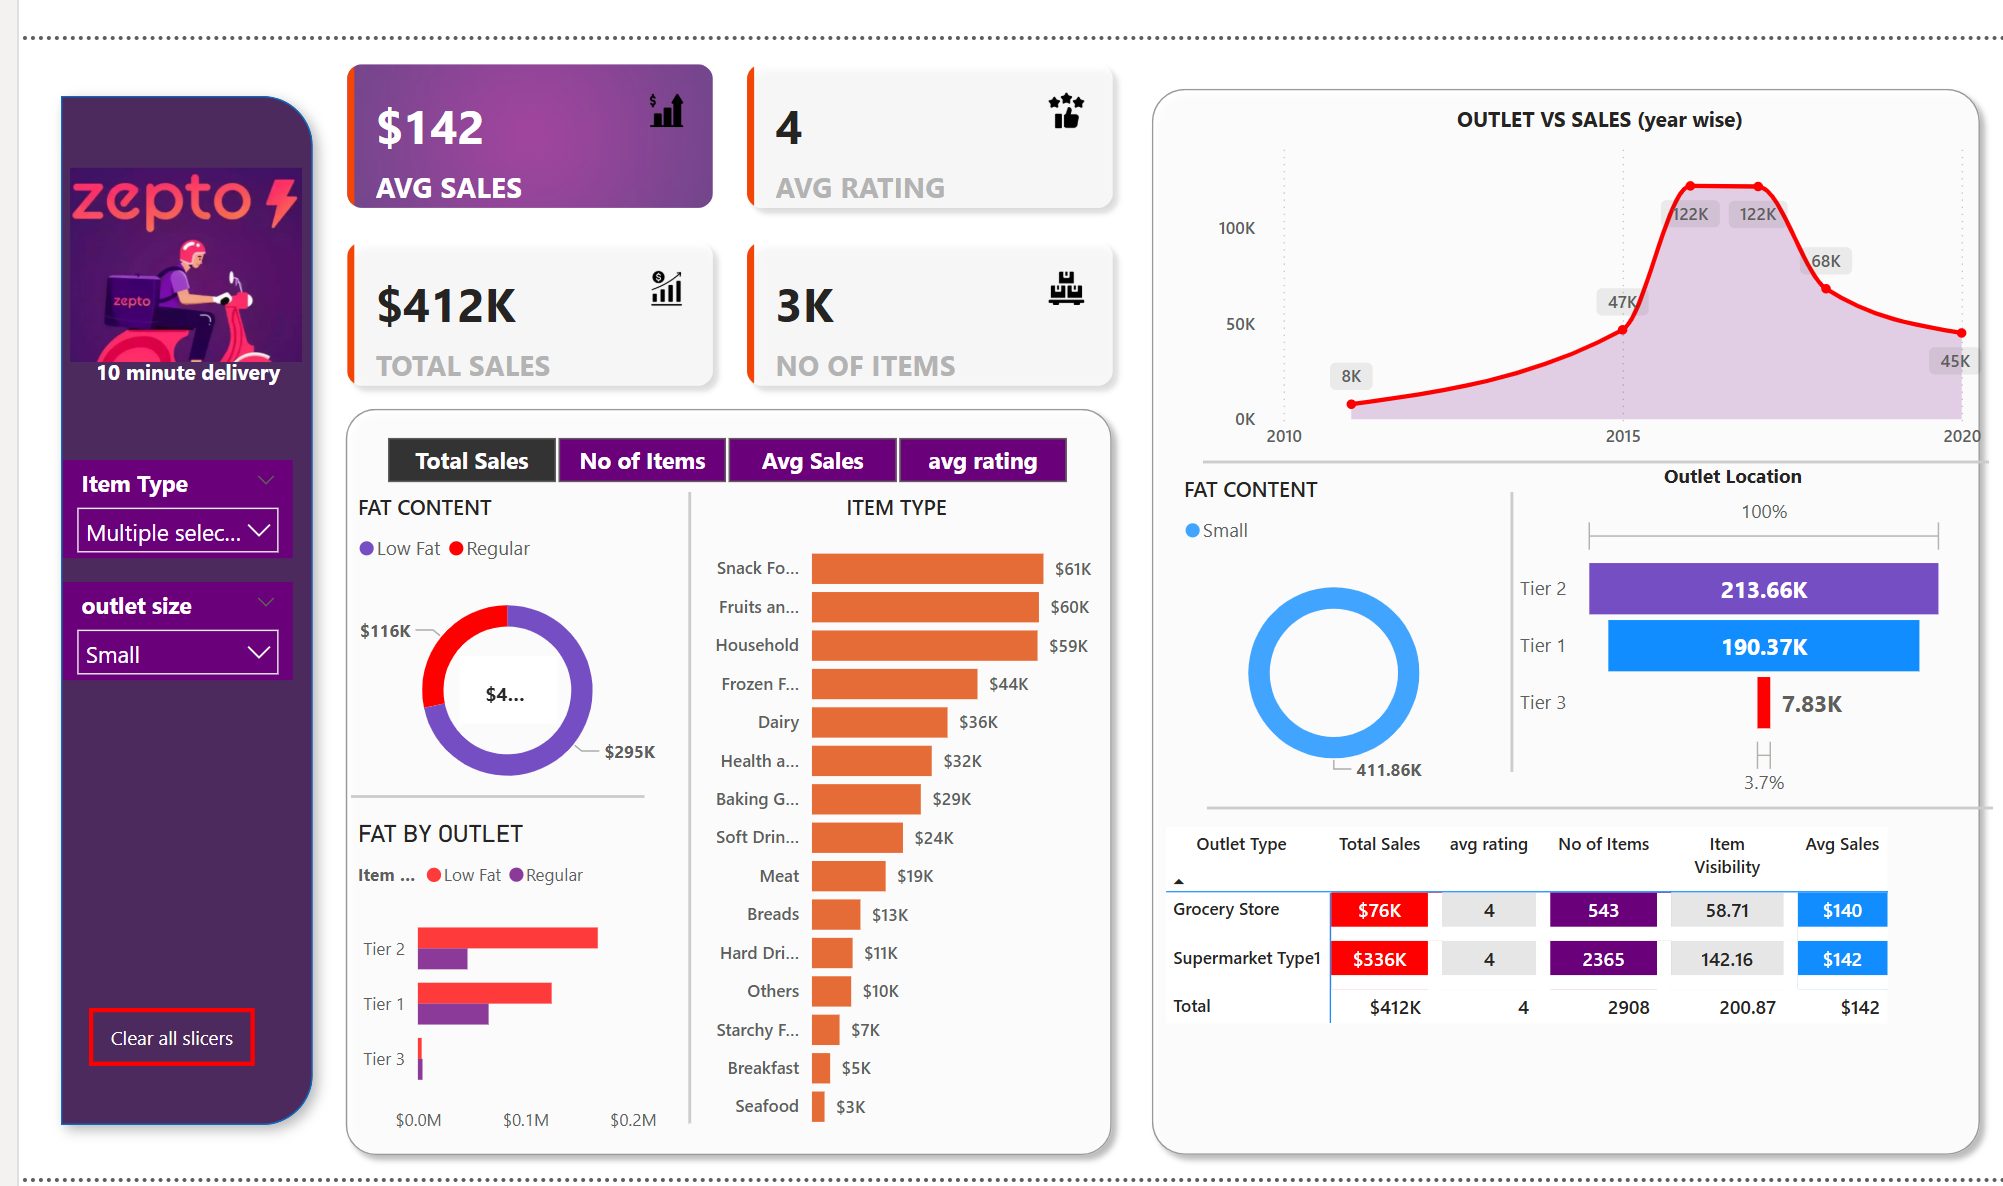

This screenshot's page, from the dashboard's own definition file:
{"tool":"powerbi","page":{"name":"Page 1","canvas":[1400,800],"ordinal":0},"visuals":[{"type":"shape","box":[15,25,205,751.2],"z":0},{"type":"cardVisual","fields":{"Data":["BlinkIT Grocery Data.Avg Sales","BlinkIT Grocery Data.avg rating","BlinkIT Grocery Data.Total Sales","BlinkIT Grocery Data.No of Items"]},"box":[213.8,0,572.5,260],"z":1000},{"type":"shape","box":[220,250,556.2,542.5],"z":2000},{"type":"donutChart","title":"FAT CONTENT","fields":{"Y":["BlinkIT Grocery Data.Total Sales"],"Category":["BlinkIT Grocery Data.Item Fat Content"]},"box":[233.8,317.5,220,230],"z":3000},{"type":"slicer","fields":{"Values":["Metric.Metric"]},"box":[233.3,272.7,527.1,45],"z":4000},{"type":"cardVisual","fields":{"Data":["BlinkIT Grocery Data.Total Sales"]},"box":[308.8,432.5,68.8,47.5],"z":5000},{"type":"clusteredBarChart","title":"FAT BY OUTLET","fields":{"Y":["BlinkIT Grocery Data.Total Sales"],"Category":["BlinkIT Grocery Data.Outlet Location Type"],"Series":["BlinkIT Grocery Data.Item Fat Content"]},"box":[233.8,547.5,220,228.8],"z":6000},{"type":"shape","box":[233.8,432.5,206.2,197.5],"z":7000},{"type":"shape","box":[368.8,317.5,206.2,443.8],"z":8000},{"type":"barChart","title":"ITEM TYPE","fields":{"Y":["BlinkIT Grocery Data.Total Sales"],"Category":["BlinkIT Grocery Data.Item Type"]},"box":[472.5,317.5,288.8,458.8],"z":9000},{"type":"shape","box":[787.1,25.3,600.2,767.5],"z":10000},{"type":"lineChart","title":"OUTLET VS SALES (year wise)","fields":{"Y":["Sum(BlinkIT Grocery Data.Sales)"],"Category":["BlinkIT Grocery Data.Outlet Establishment Year"]},"box":[837.8,45,546.8,251.6],"z":11000},{"type":"shape","box":[832.1,239,552.4,115.3],"z":12000},{"type":"donutChart","title":"FAT CONTENT","fields":{"Y":["Sum(BlinkIT Grocery Data.Sales)"],"Series":["BlinkIT Grocery Data.Outlet Size"]},"box":[813.9,305,220.7,230.5],"z":13000},{"type":"funnel","title":" Outlet Location","fields":{"Category":["BlinkIT Grocery Data.Outlet Location Type"],"Y":["Sum(BlinkIT Grocery Data.Sales)"]},"box":[1050,296.6,309.2,240.4],"z":14000},{"type":"shape","box":[946,317.7,206.6,196.8],"z":15000},{"type":"shape","box":[834.9,482.1,552.4,115.3],"z":16000},{"type":"pivotTable","fields":{"Rows":["BlinkIT Grocery Data.Outlet Type"],"Values":["BlinkIT Grocery Data.Total Sales","BlinkIT Grocery Data.avg rating","BlinkIT Grocery Data.No of Items","Sum(BlinkIT Grocery Data.Item Visibility)","BlinkIT Grocery Data.Avg Sales"]},"box":[801.2,548.2,572.1,229.1],"z":17000},{"type":"image","box":[31.4,77.1,172.9,161.4],"z":18000},{"type":"textbox","box":[48.6,218.6,157.1,67.1],"z":19000},{"type":"slicer","fields":{"Values":["BlinkIT Grocery Data.Item Type"]},"box":[30.9,295.2,161.6,68.9],"z":20000},{"type":"slicer","fields":{"Values":["BlinkIT Grocery Data.Outlet Size"]},"box":[30.9,380.9,161.6,68.9],"z":21000},{"type":"actionButton","box":[49.2,680.3,116.7,40.8],"z":22000}]}

Visuals, with their boxes on the page's 1400x800 design canvas (x1, y1, x2, y2). These are canvas units, not pixel positions in the 2003x1186 screenshot, which may show the page scaled, cropped or inside an application window:
shape: BBox(15, 25, 220, 776)
cardVisual - BlinkIT Grocery Data.Avg Sales x BlinkIT Grocery Data.avg rating: BBox(214, 0, 786, 260)
shape: BBox(220, 250, 776, 792)
"FAT CONTENT" donutChart: BBox(234, 318, 454, 548)
slicer - Metric.Metric: BBox(233, 273, 760, 318)
cardVisual - BlinkIT Grocery Data.Total Sales: BBox(309, 432, 378, 480)
"FAT BY OUTLET" clusteredBarChart: BBox(234, 548, 454, 776)
shape: BBox(234, 432, 440, 630)
shape: BBox(369, 318, 575, 761)
"ITEM TYPE" barChart: BBox(472, 318, 761, 776)
shape: BBox(787, 25, 1387, 793)
"OUTLET VS SALES (year wise)" lineChart: BBox(838, 45, 1385, 297)
shape: BBox(832, 239, 1384, 354)
"FAT CONTENT" donutChart: BBox(814, 305, 1035, 536)
" Outlet Location" funnel: BBox(1050, 297, 1359, 537)
shape: BBox(946, 318, 1153, 514)
shape: BBox(835, 482, 1387, 597)
pivotTable - BlinkIT Grocery Data.Outlet Type x BlinkIT Grocery Data.Total Sales: BBox(801, 548, 1373, 777)
image: BBox(31, 77, 204, 238)
textbox: BBox(49, 219, 206, 286)
slicer - BlinkIT Grocery Data.Item Type: BBox(31, 295, 192, 364)
slicer - BlinkIT Grocery Data.Outlet Size: BBox(31, 381, 192, 450)
actionButton: BBox(49, 680, 166, 721)
